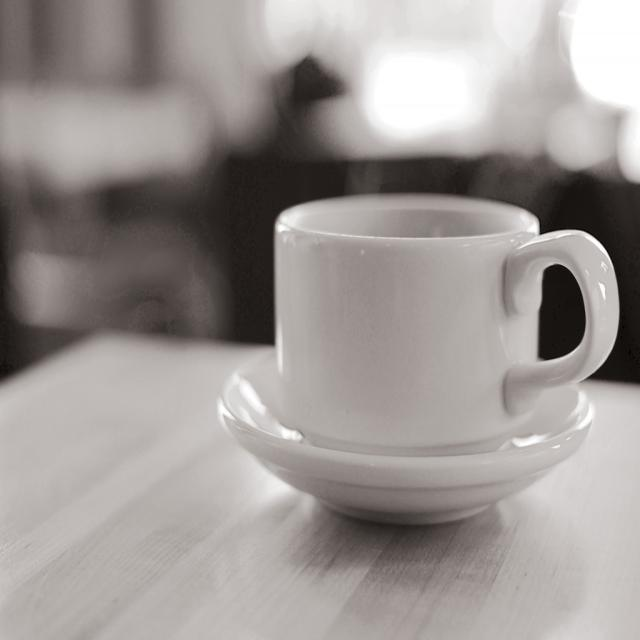non-organic waste: (272, 190, 622, 456)
